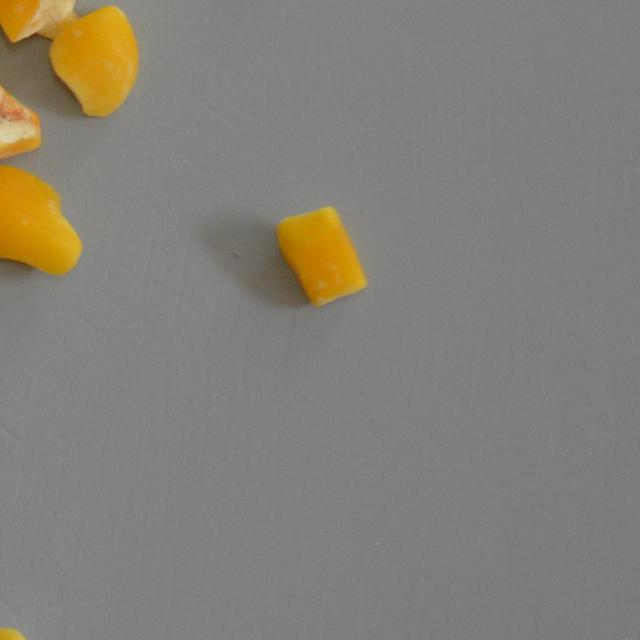dañado: (0, 67, 44, 164)
estandar: (48, 4, 140, 118), (274, 204, 368, 306), (0, 164, 82, 278)
pelicula: (0, 0, 90, 44)
